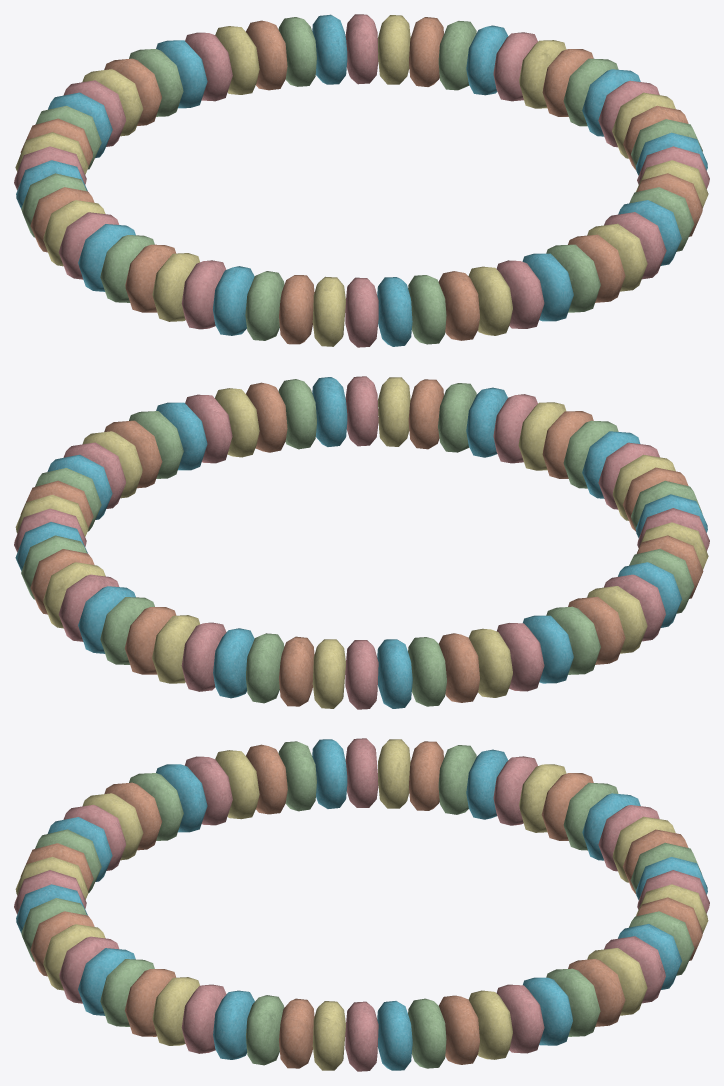
File: candy_necklace.glb
The picture shows the model from 3 angles, top to bottom: view 1: azimuth 30°, elevation 25°; view 2: azimuth 150°, elevation 25°; view 3: azimuth 270°, elevation 25°; orthographic projection.
Parts seen in each view (by area): view 1: candyDone; view 2: candyDone; view 3: candyDone.
Boxes of the visible parts, x1,y1,x2,y2 form: candyDone: [14, 14, 709, 347]; candyDone: [14, 376, 709, 709]; candyDone: [14, 738, 709, 1071].
Bounding box in the file's own units: 0.0628 × 0.0066 × 0.0627.
Materials: 1 (1 with a texture image).
